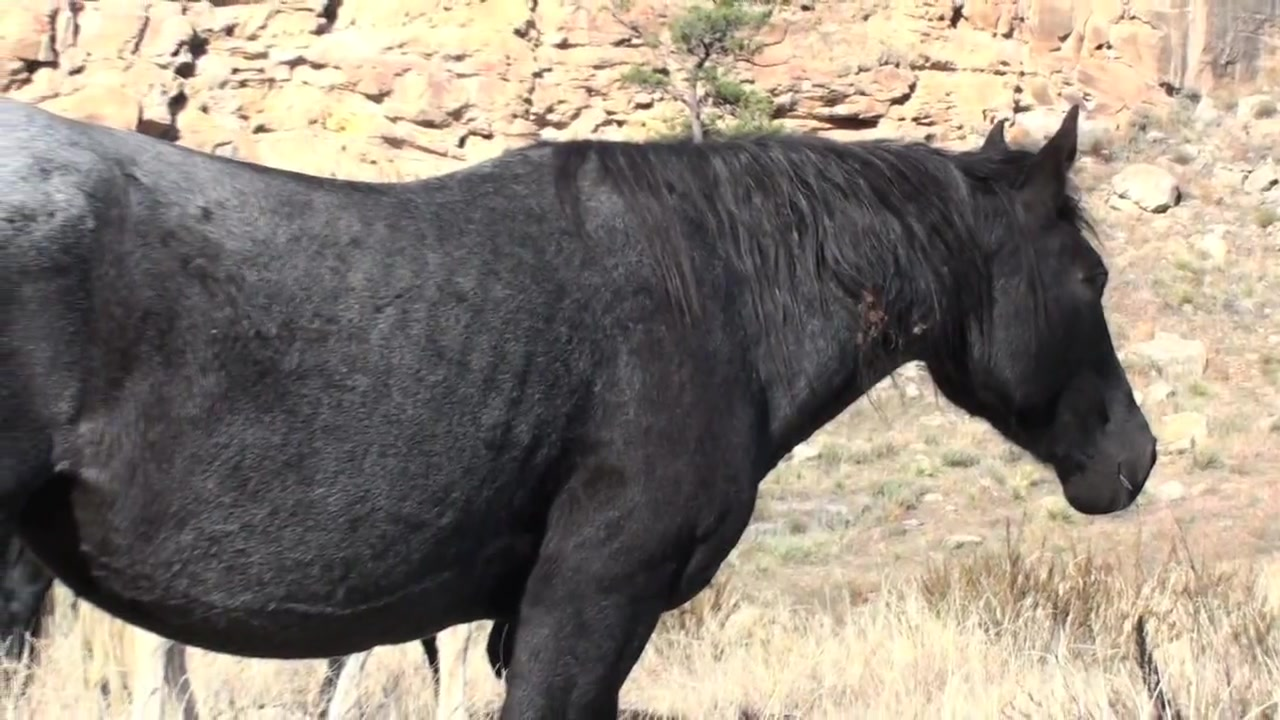horse: (1, 93, 1162, 720)
